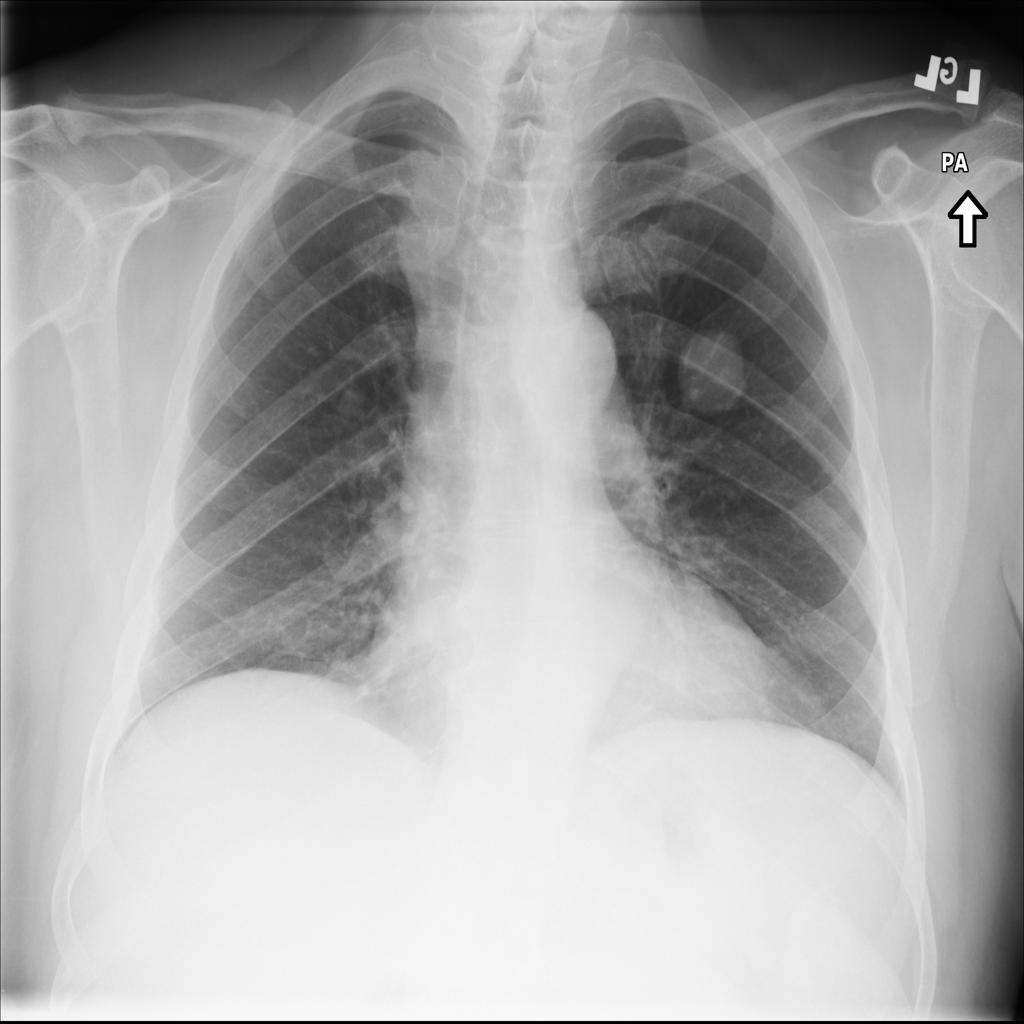nodule: (661, 310, 764, 436)
